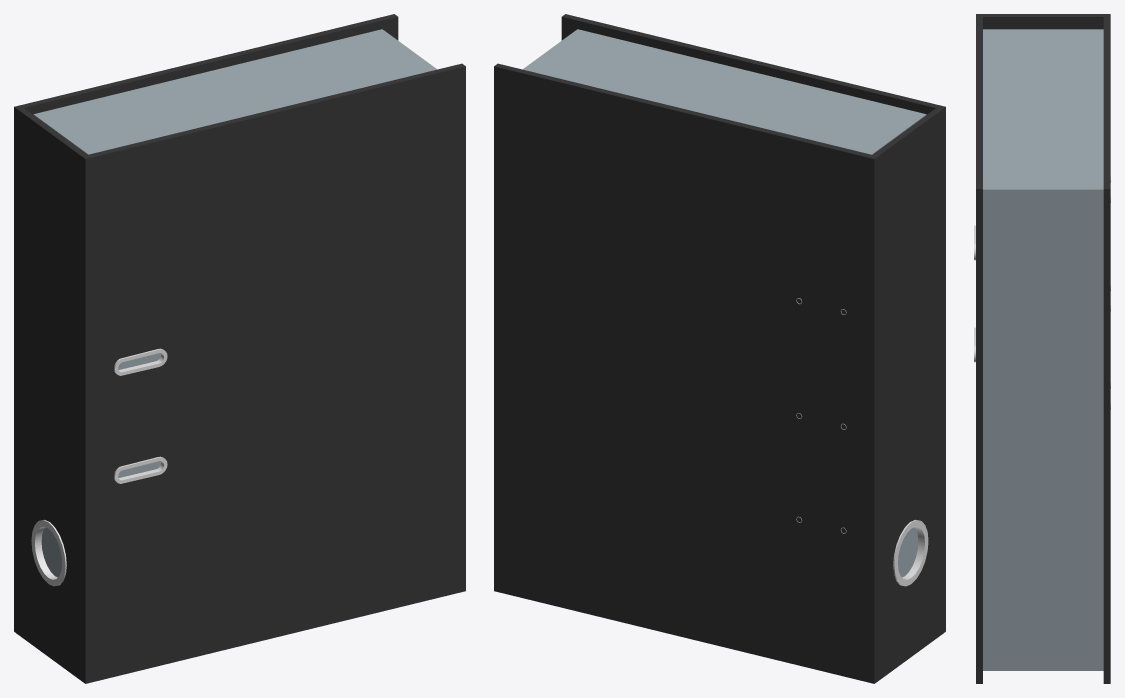
Rendered from fbx_DossierPlein.fbx.
The picture shows the model from 3 angles, left to right: view 1: azimuth 30°, elevation 25°; view 2: azimuth 150°, elevation 25°; view 3: azimuth 270°, elevation 25°; orthographic projection. The views are drawn at different scales.
Parts seen in each view (by area): view 1: polySurface164; view 2: polySurface164; view 3: polySurface164.
Boxes of the visible parts, <box> form: polySurface164: <box>14,14,465,683</box>; polySurface164: <box>494,14,945,683</box>; polySurface164: <box>974,14,1110,683</box>.
Size of the model in its own units: 22.97 by 30.19 by 7.56.
